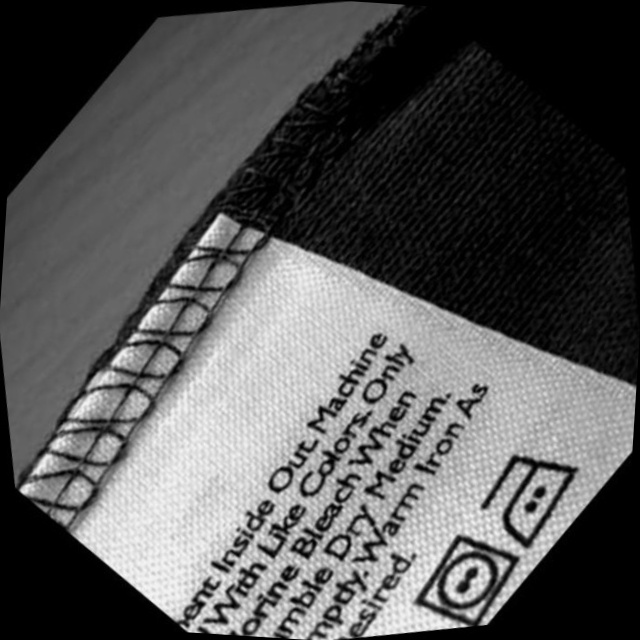iron_medium: (472, 440, 598, 556)
tumble_dry_medium: (405, 523, 534, 636)
